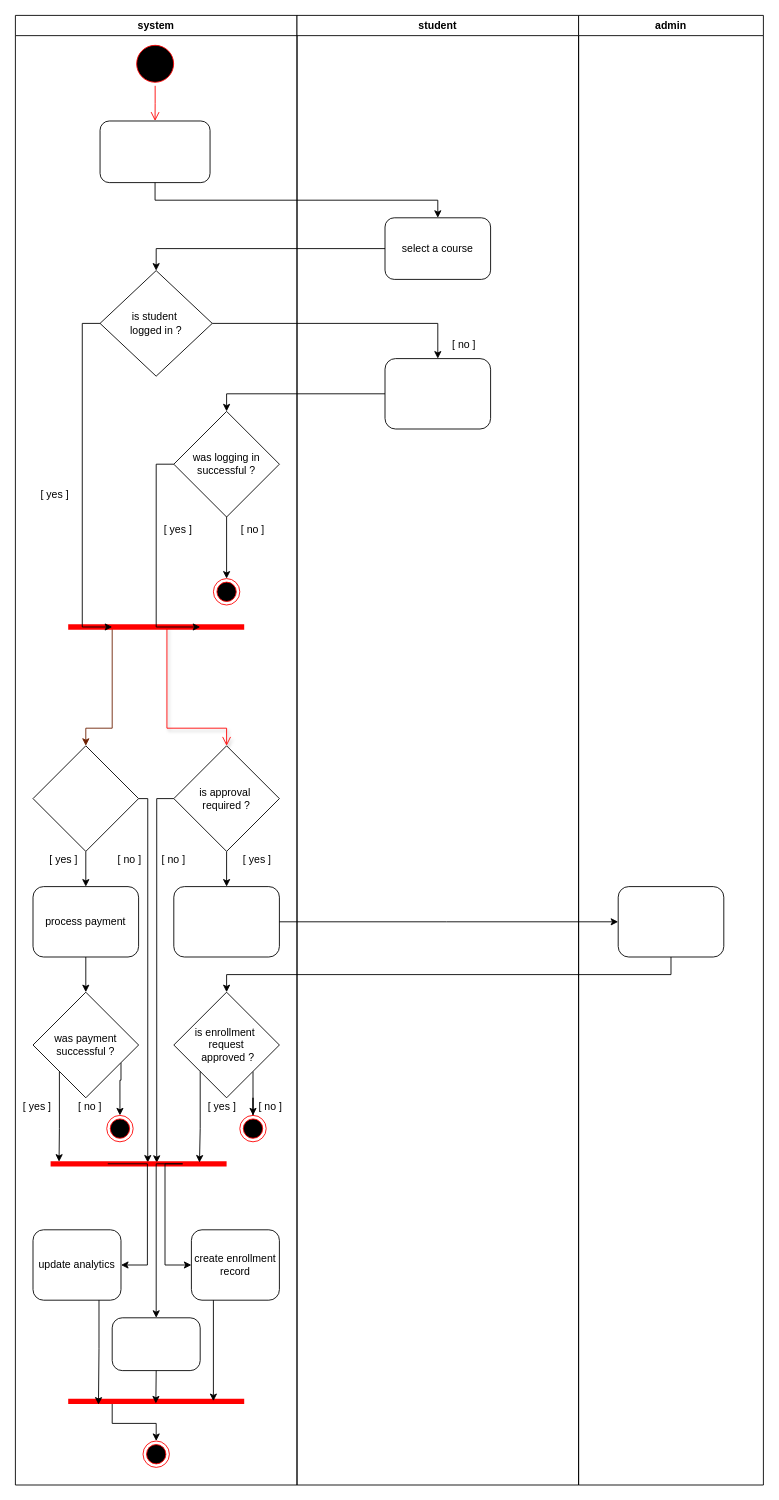
The diagram is 779 pixels wide and 1500 high, and some of its shapes have lost their labels. Here are the shapes that lost their labels. From the top down, the centre of each, then its label:
At pixel 154 151: "display available courses".
At pixel 437 393: "log in or register".
At pixel 85 798: "is payment required ?".
At pixel 226 921: "send enrollment request to instructor".
At pixel 670 921: "process enrollment request".
At pixel 155 1344: "send confirmation notification to student".
